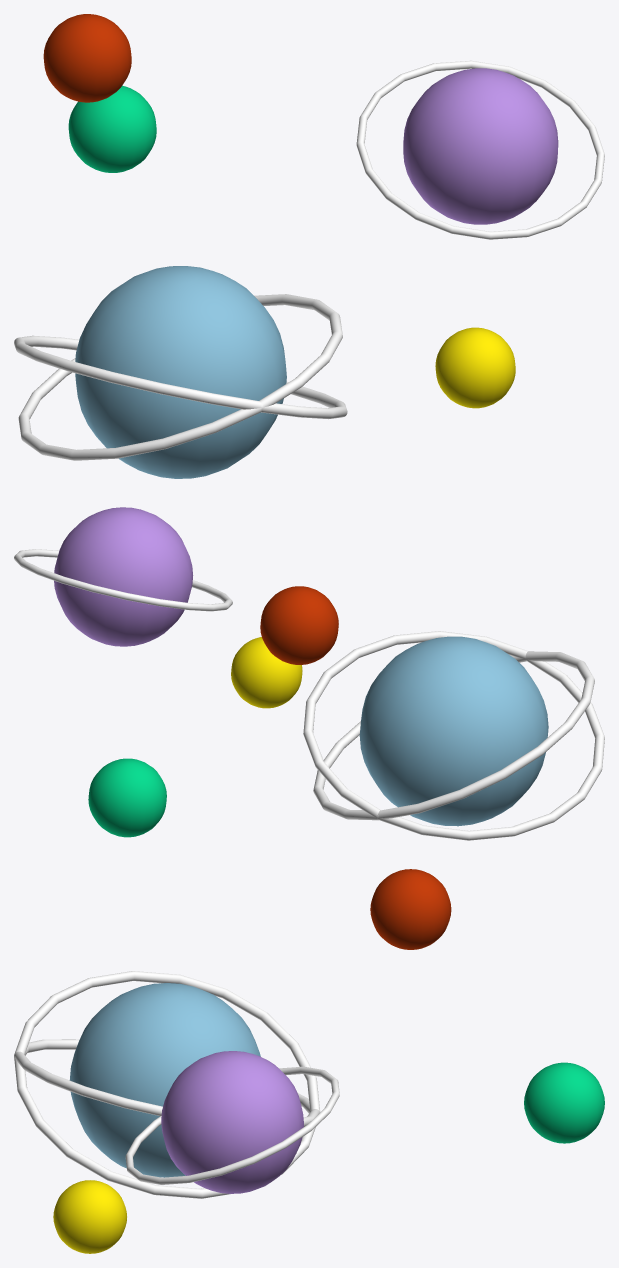
File: planetCluster.fbx
3 views of the same model, one above another, from view 1: azimuth 30°, elevation 25°; view 2: azimuth 150°, elevation 25°; view 3: azimuth 270°, elevation 25° (orthographic). The views are drawn at different scales.
Visible parts, largest first — view 1: planet (×2), planetRing (×2), miniPlanet3, miniPlanet2, miniPlanet, planetRing1; view 2: planet (×2), planetRing (×2), miniPlanet2, miniPlanet3, planetRing1, miniPlanet; view 3: planet (×2), planetRing1, planetRing (×2), miniPlanet2, miniPlanet3, miniPlanet.
Part boxes in pixels (x1=…): planet (×2): x1=75, y1=68, x2=558, y2=478; planetRing (×2): x1=18, y1=60, x2=604, y2=460; miniPlanet3: x1=43, y1=14, x2=131, y2=102; miniPlanet2: x1=68, y1=85, x2=156, y2=172; miniPlanet: x1=435, y1=327, x2=515, y2=408; planetRing1: x1=14, y1=335, x2=347, y2=419; planet (×2): x1=54, y1=507, x2=548, y2=826; planetRing (×2): x1=14, y1=549, x2=604, y2=840; miniPlanet2: x1=88, y1=758, x2=166, y2=837; miniPlanet3: x1=260, y1=586, x2=338, y2=664; planetRing1: x1=313, y1=651, x2=594, y2=820; miniPlanet: x1=231, y1=637, x2=302, y2=708; planet (×2): x1=69, y1=983, x2=303, y2=1193; planetRing1: x1=14, y1=971, x2=320, y2=1198; planetRing (×2): x1=14, y1=1039, x2=339, y2=1184; miniPlanet2: x1=524, y1=1062, x2=604, y2=1143; miniPlanet3: x1=370, y1=869, x2=451, y2=949; miniPlanet: x1=53, y1=1180, x2=126, y2=1253.
Bounding box in the file's own units: 16.81 × 9.38 × 16.02.
